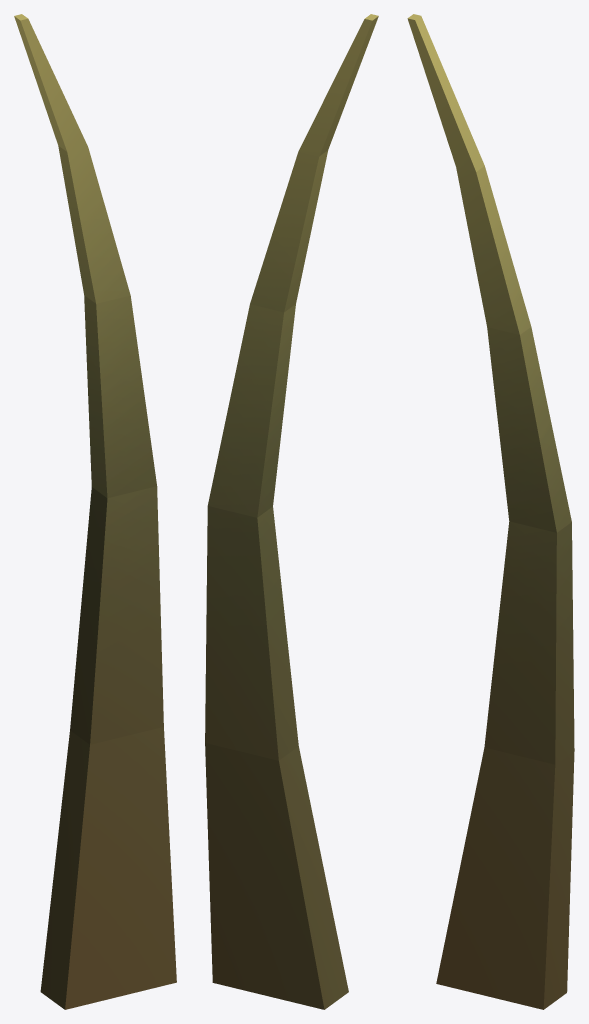
File: grass1.fbx
3 views of the same model, side by side, from view 1: azimuth 30°, elevation 25°; view 2: azimuth 150°, elevation 25°; view 3: azimuth 330°, elevation 25° (orthographic). The views are drawn at different scales.
Visible parts, largest first — view 1: grass.001; view 2: grass.001; view 3: grass.001.
Part boxes in pixels (x1,y1,x2,y2): grass.001: [14, 14, 176, 1009]; grass.001: [205, 14, 378, 1009]; grass.001: [407, 14, 574, 1009].
Size of the model in its own units: 6.62 by 17.43 by 111.
